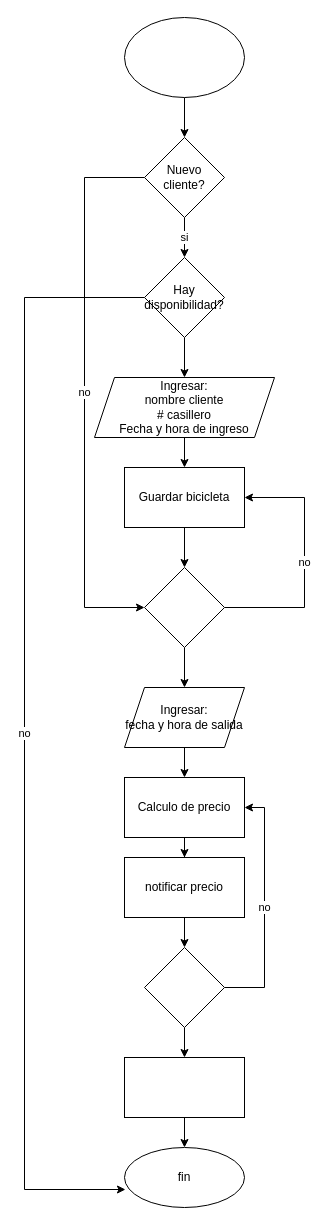
The diagram is 330 pixels wide and 1225 high, and some of its shapes have lost their labels. The centre of each missing label's shape, as x and y in pixels:
"Es correcto?" goes at pixel 184 987.
"inicio" goes at pixel 184 57.
"Realizar cobro" goes at pixel 184 1087.
"Se retira ?" goes at pixel 184 607.
